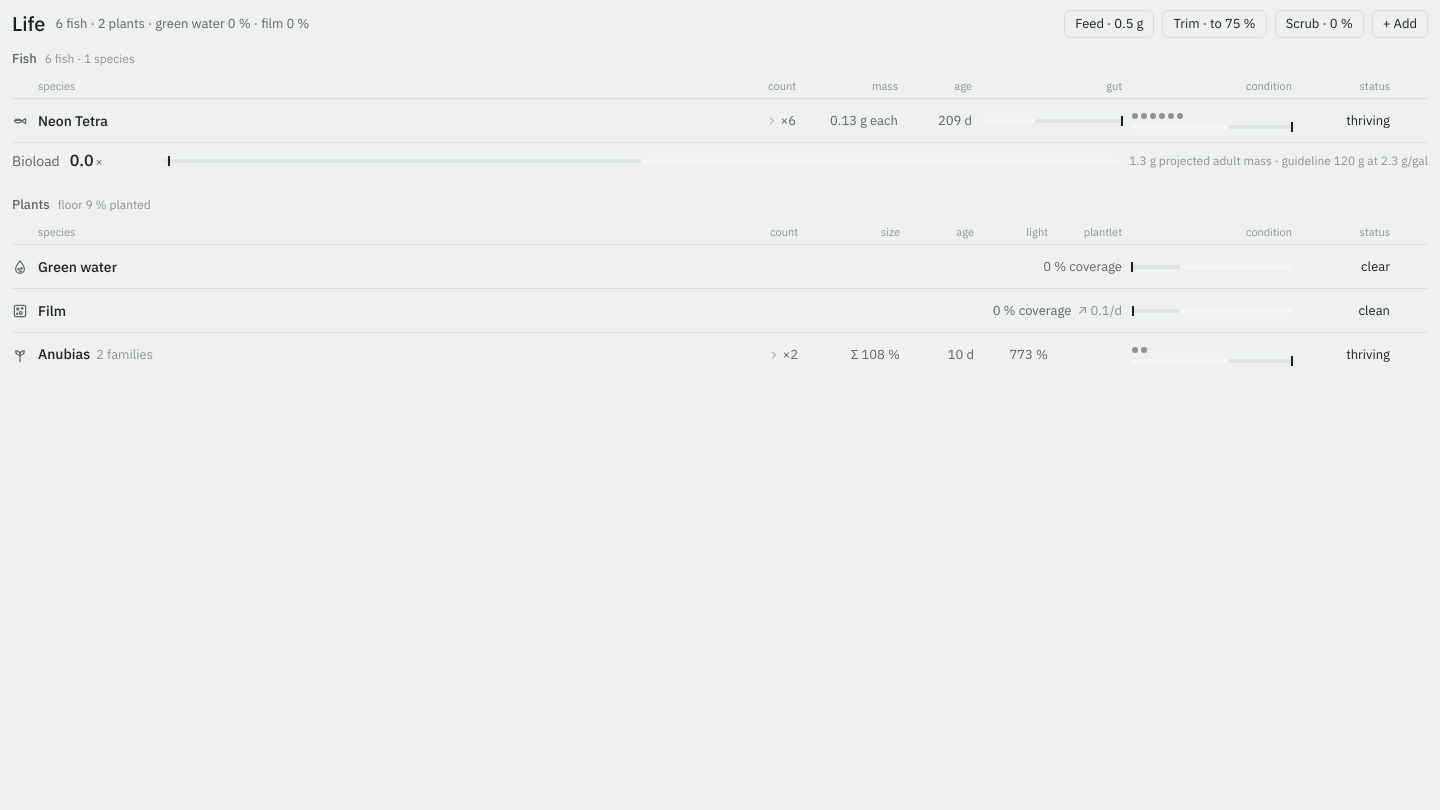
Test: LifeSection › opens the Green water ledger on the organism: its condition, coverage and light, and no store row
The width and height of the screenshot is (1440, 810).
Step 1. Click the button named "Green water — clear" → (720, 266), box left=12, top=245, right=1428, bottom=288
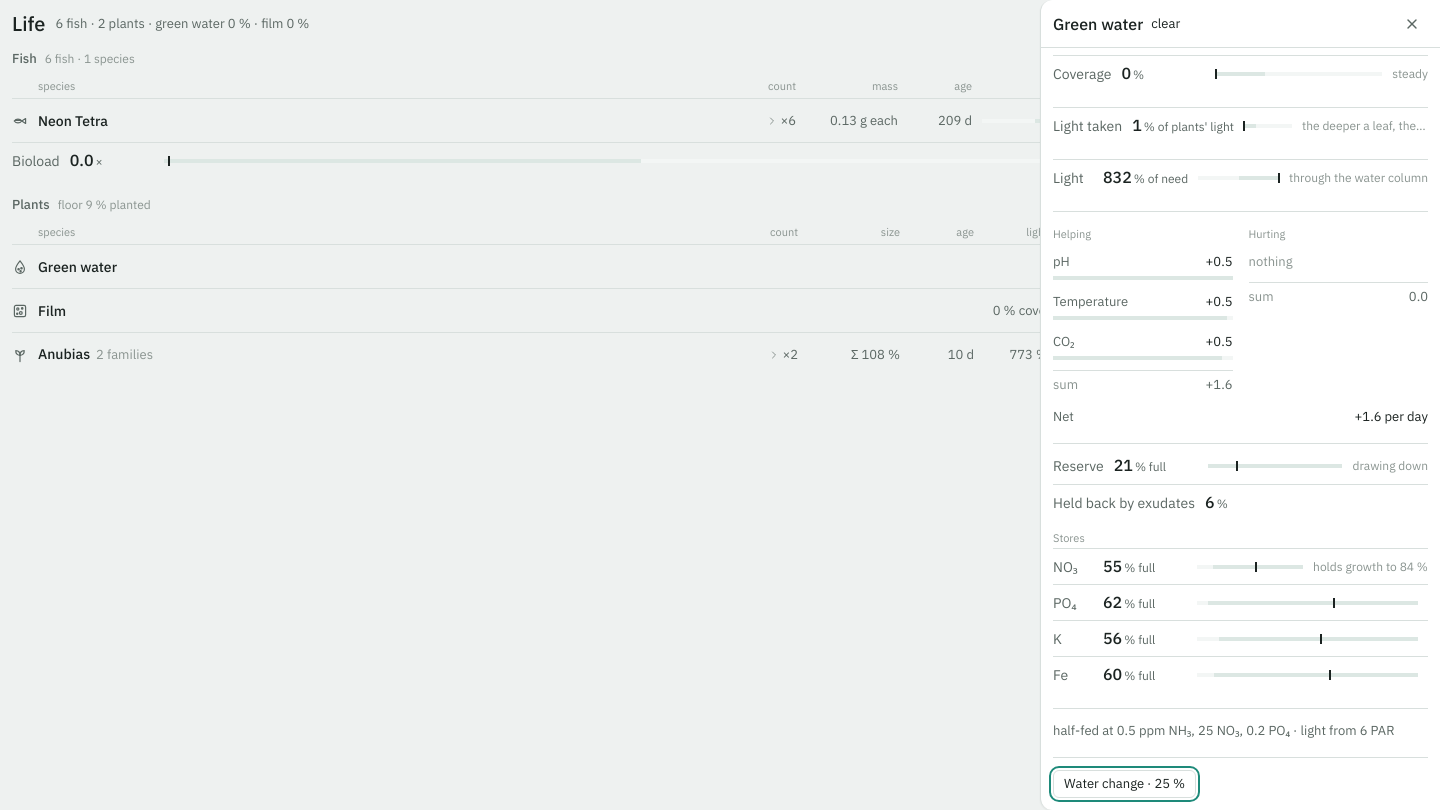
Now the text "Coverage" is shown, box left=1053, top=64, right=1111, bottom=84
Now the text "% of need" is shown, box left=1134, top=170, right=1188, bottom=186
